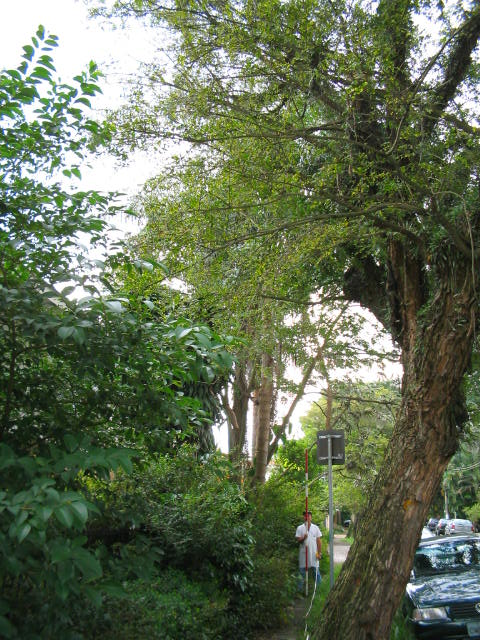crown: (83, 2, 480, 320)
stem: (317, 313, 473, 640)
stick: (300, 448, 312, 597)
tree: (79, 1, 479, 638)
